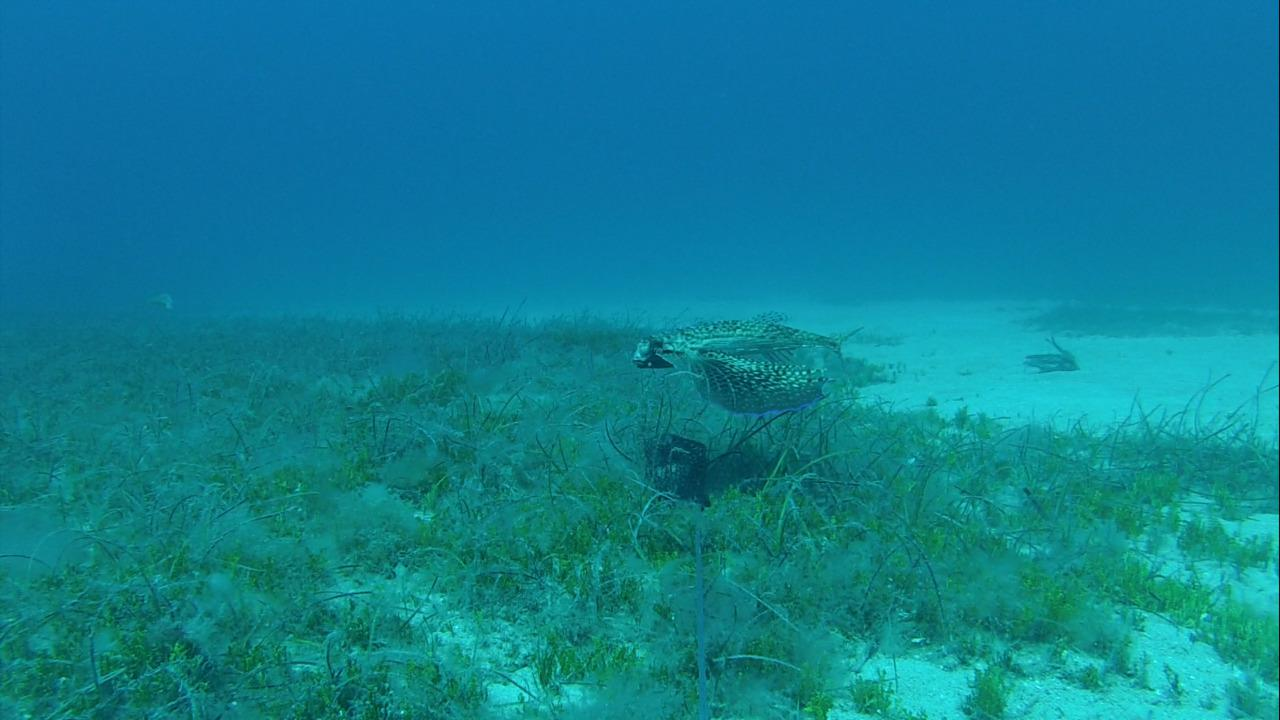dactylopterus: (626, 307, 872, 416)
raor: (145, 290, 176, 314)
